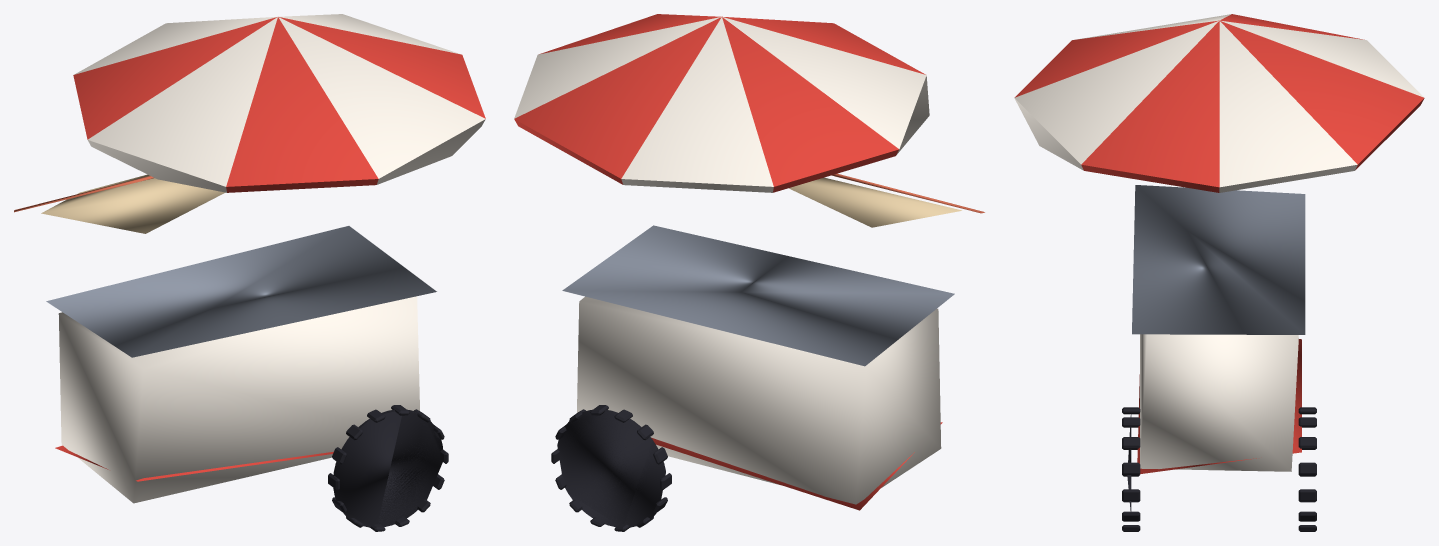
File: hotdog_cart.glb
The picture shows the model from 3 angles, left to right: view 1: azimuth 30°, elevation 25°; view 2: azimuth 150°, elevation 25°; view 3: azimuth 270°, elevation 25°; orthographic projection. The views are drawn at different scales.
Visible parts, largest first — view 1: hotdog_cart; view 2: hotdog_cart; view 3: hotdog_cart.
Boxes of the visible parts, left/top/right/bottom form: hotdog_cart: left=14, top=14, right=485, bottom=531; hotdog_cart: left=514, top=14, right=984, bottom=531; hotdog_cart: left=1014, top=14, right=1424, bottom=531.
Bounding box in the file's own units: 2.43 × 2.55 × 2.
Materials: 1 (1 with a texture image).
